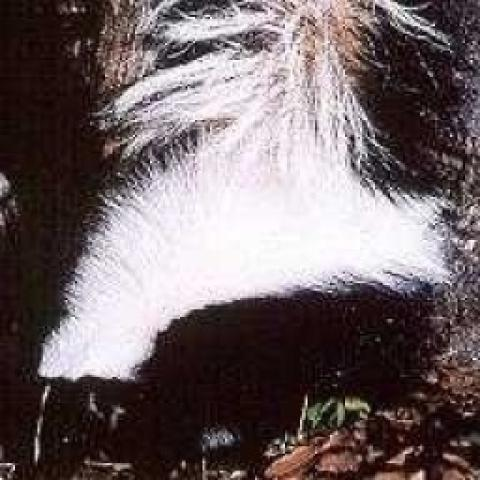small_animal: (21, 111, 458, 470)
